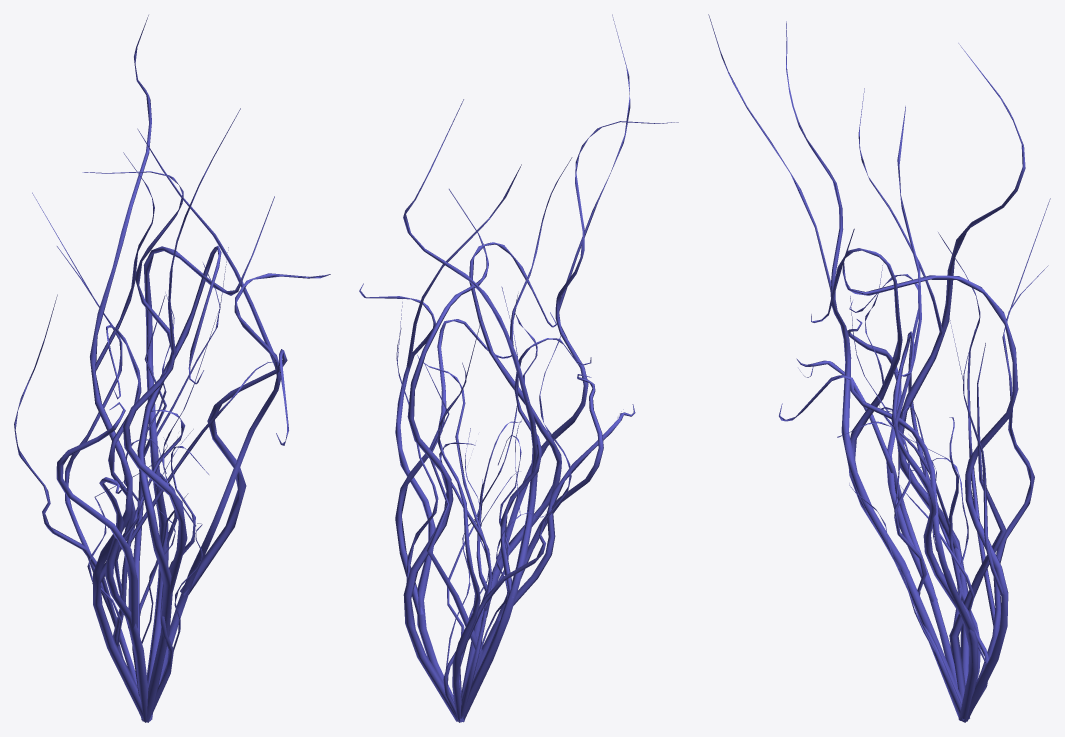
The model's file is grass_2.obj.
3 views of the same model, side by side, from view 1: azimuth 30°, elevation 25°; view 2: azimuth 150°, elevation 25°; view 3: azimuth 270°, elevation 25° (orthographic). The views are drawn at different scales.
Parts seen in each view (by area): view 1: grass_bundle_2_CUtree.000; view 2: grass_bundle_2_CUtree.000; view 3: grass_bundle_2_CUtree.000.
Part boxes in pixels (x1=…): grass_bundle_2_CUtree.000: x1=14, y1=15, x2=330, y2=722; grass_bundle_2_CUtree.000: x1=359, y1=14, x2=678, y2=722; grass_bundle_2_CUtree.000: x1=708, y1=14, x2=1050, y2=722.
Bounding box in the file's own units: 1.49 × 3.35 × 1.51.
